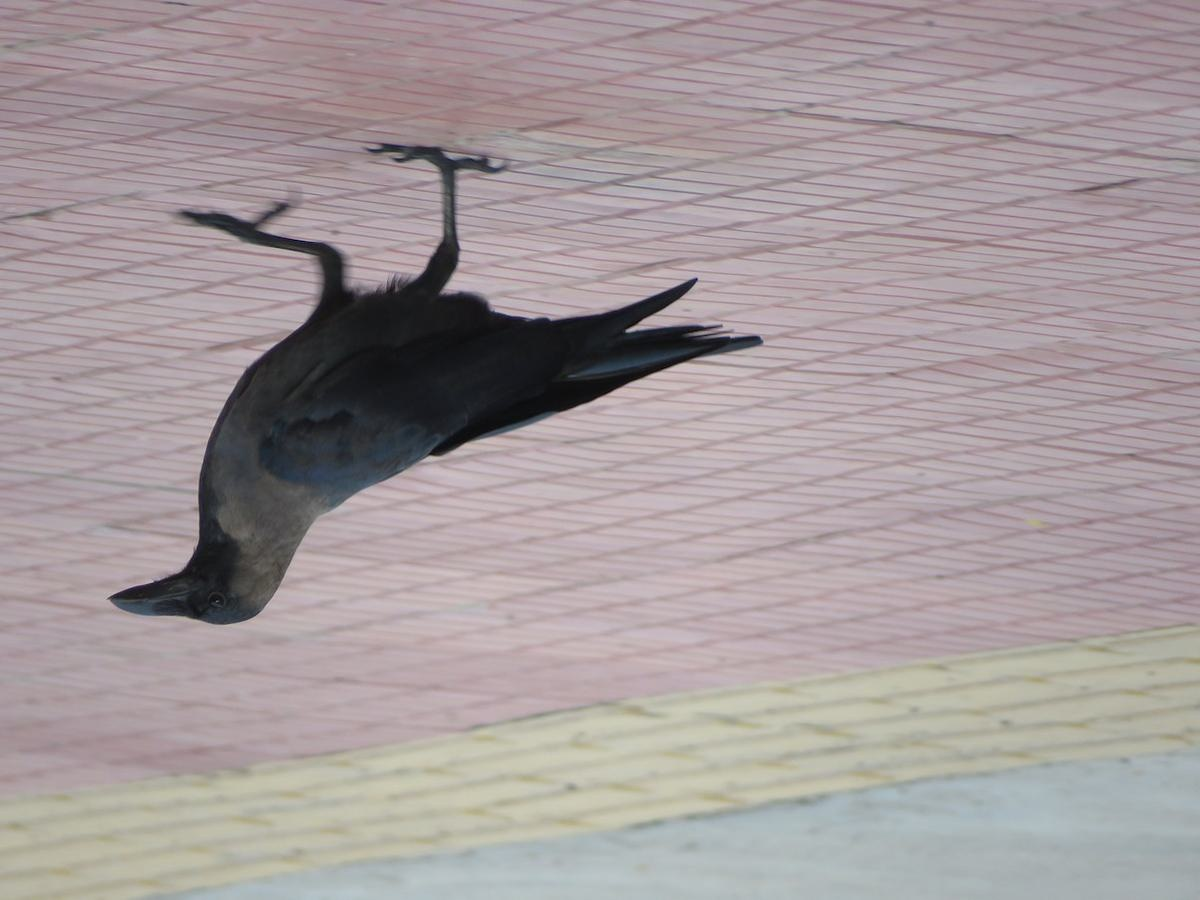crow: (104, 113, 780, 633)
